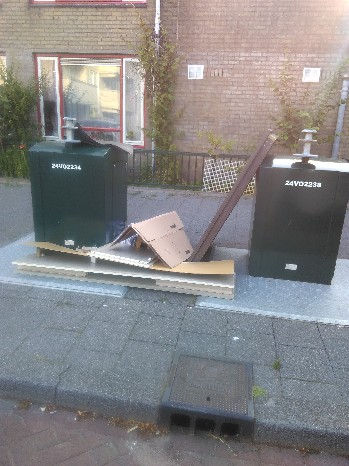Container: (263, 146, 348, 288), (25, 120, 118, 241)
Rest: (25, 252, 230, 292), (194, 131, 251, 257), (125, 213, 189, 271)
